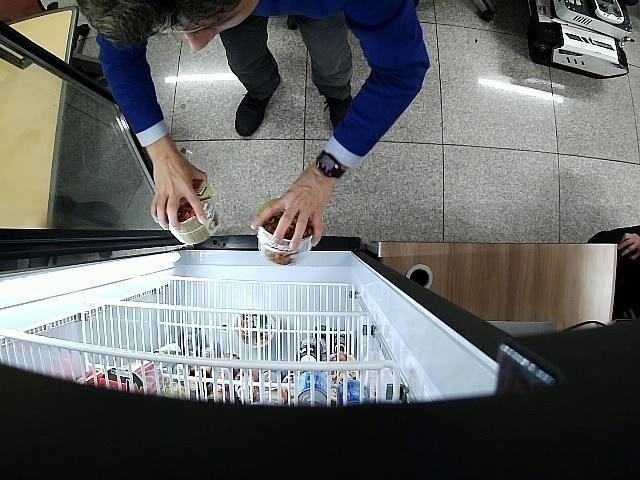03_chapagetti_L: (257, 198, 312, 266), (165, 179, 220, 245)
